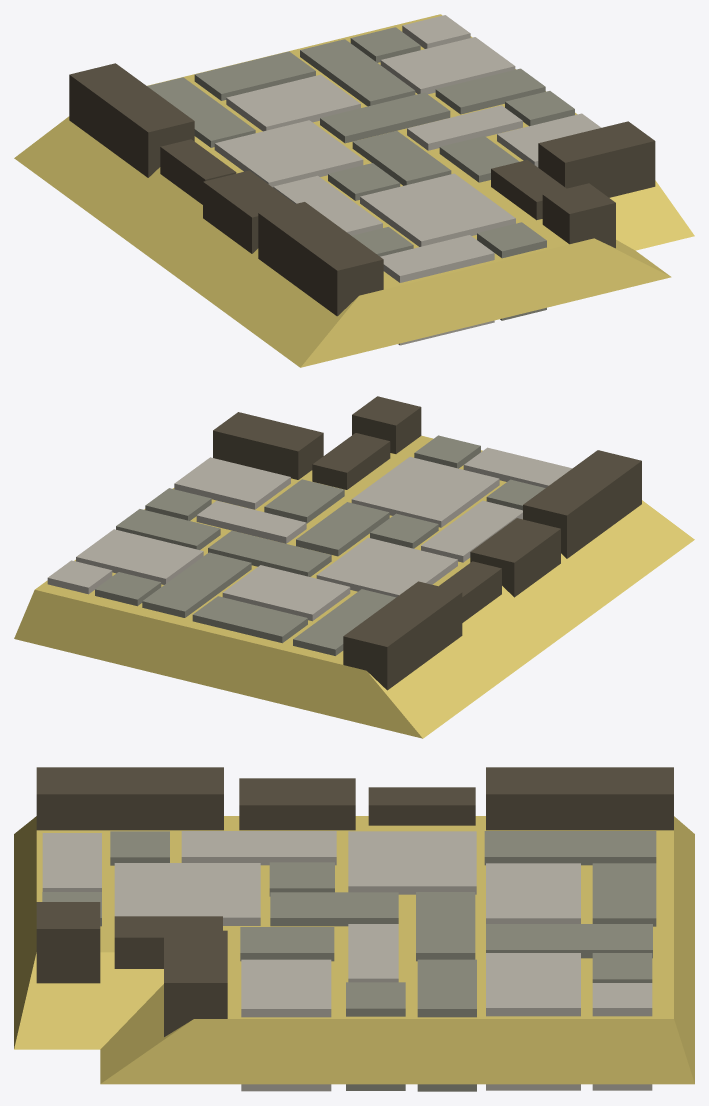
The model's file is ThreeWayQuarterFilled2.fbx.
The picture shows the model from 3 angles, top to bottom: view 1: azimuth 30°, elevation 25°; view 2: azimuth 150°, elevation 25°; view 3: azimuth 270°, elevation 25°; orthographic projection. The views are drawn at different scales.
Visible parts, largest first — view 1: Stone - Three Way Quarter Filled 2; view 2: Stone - Three Way Quarter Filled 2; view 3: Stone - Three Way Quarter Filled 2.
Boxes of the visible parts, x1=… form: Stone - Three Way Quarter Filled 2: x1=14, y1=14, x2=694, y2=367; Stone - Three Way Quarter Filled 2: x1=14, y1=396, x2=694, y2=738; Stone - Three Way Quarter Filled 2: x1=14, y1=767, x2=694, y2=1091.
Bounding box in the file's own units: 92.8 × 19.07 × 107.
